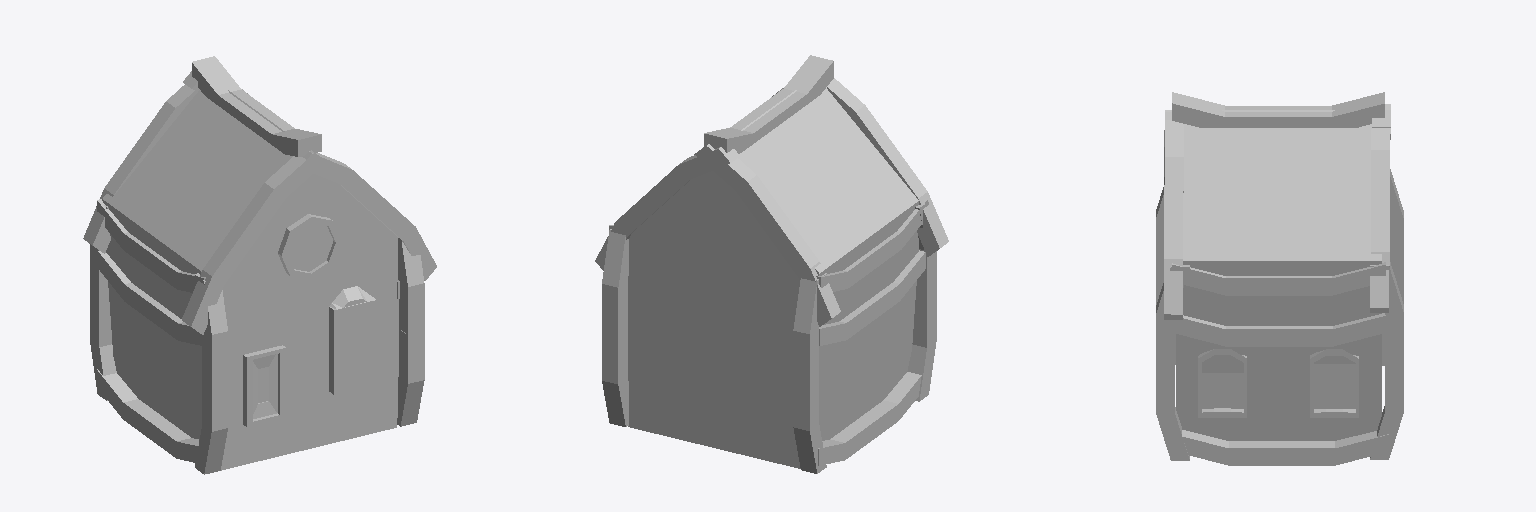
Rendered from houeseFirst.obj.
3 views of the same model, side by side, from view 1: azimuth 30°, elevation 25°; view 2: azimuth 150°, elevation 25°; view 3: azimuth 270°, elevation 25° (orthographic).
Bounding box in the file's own units: 4.6 × 5.64 × 4.01.